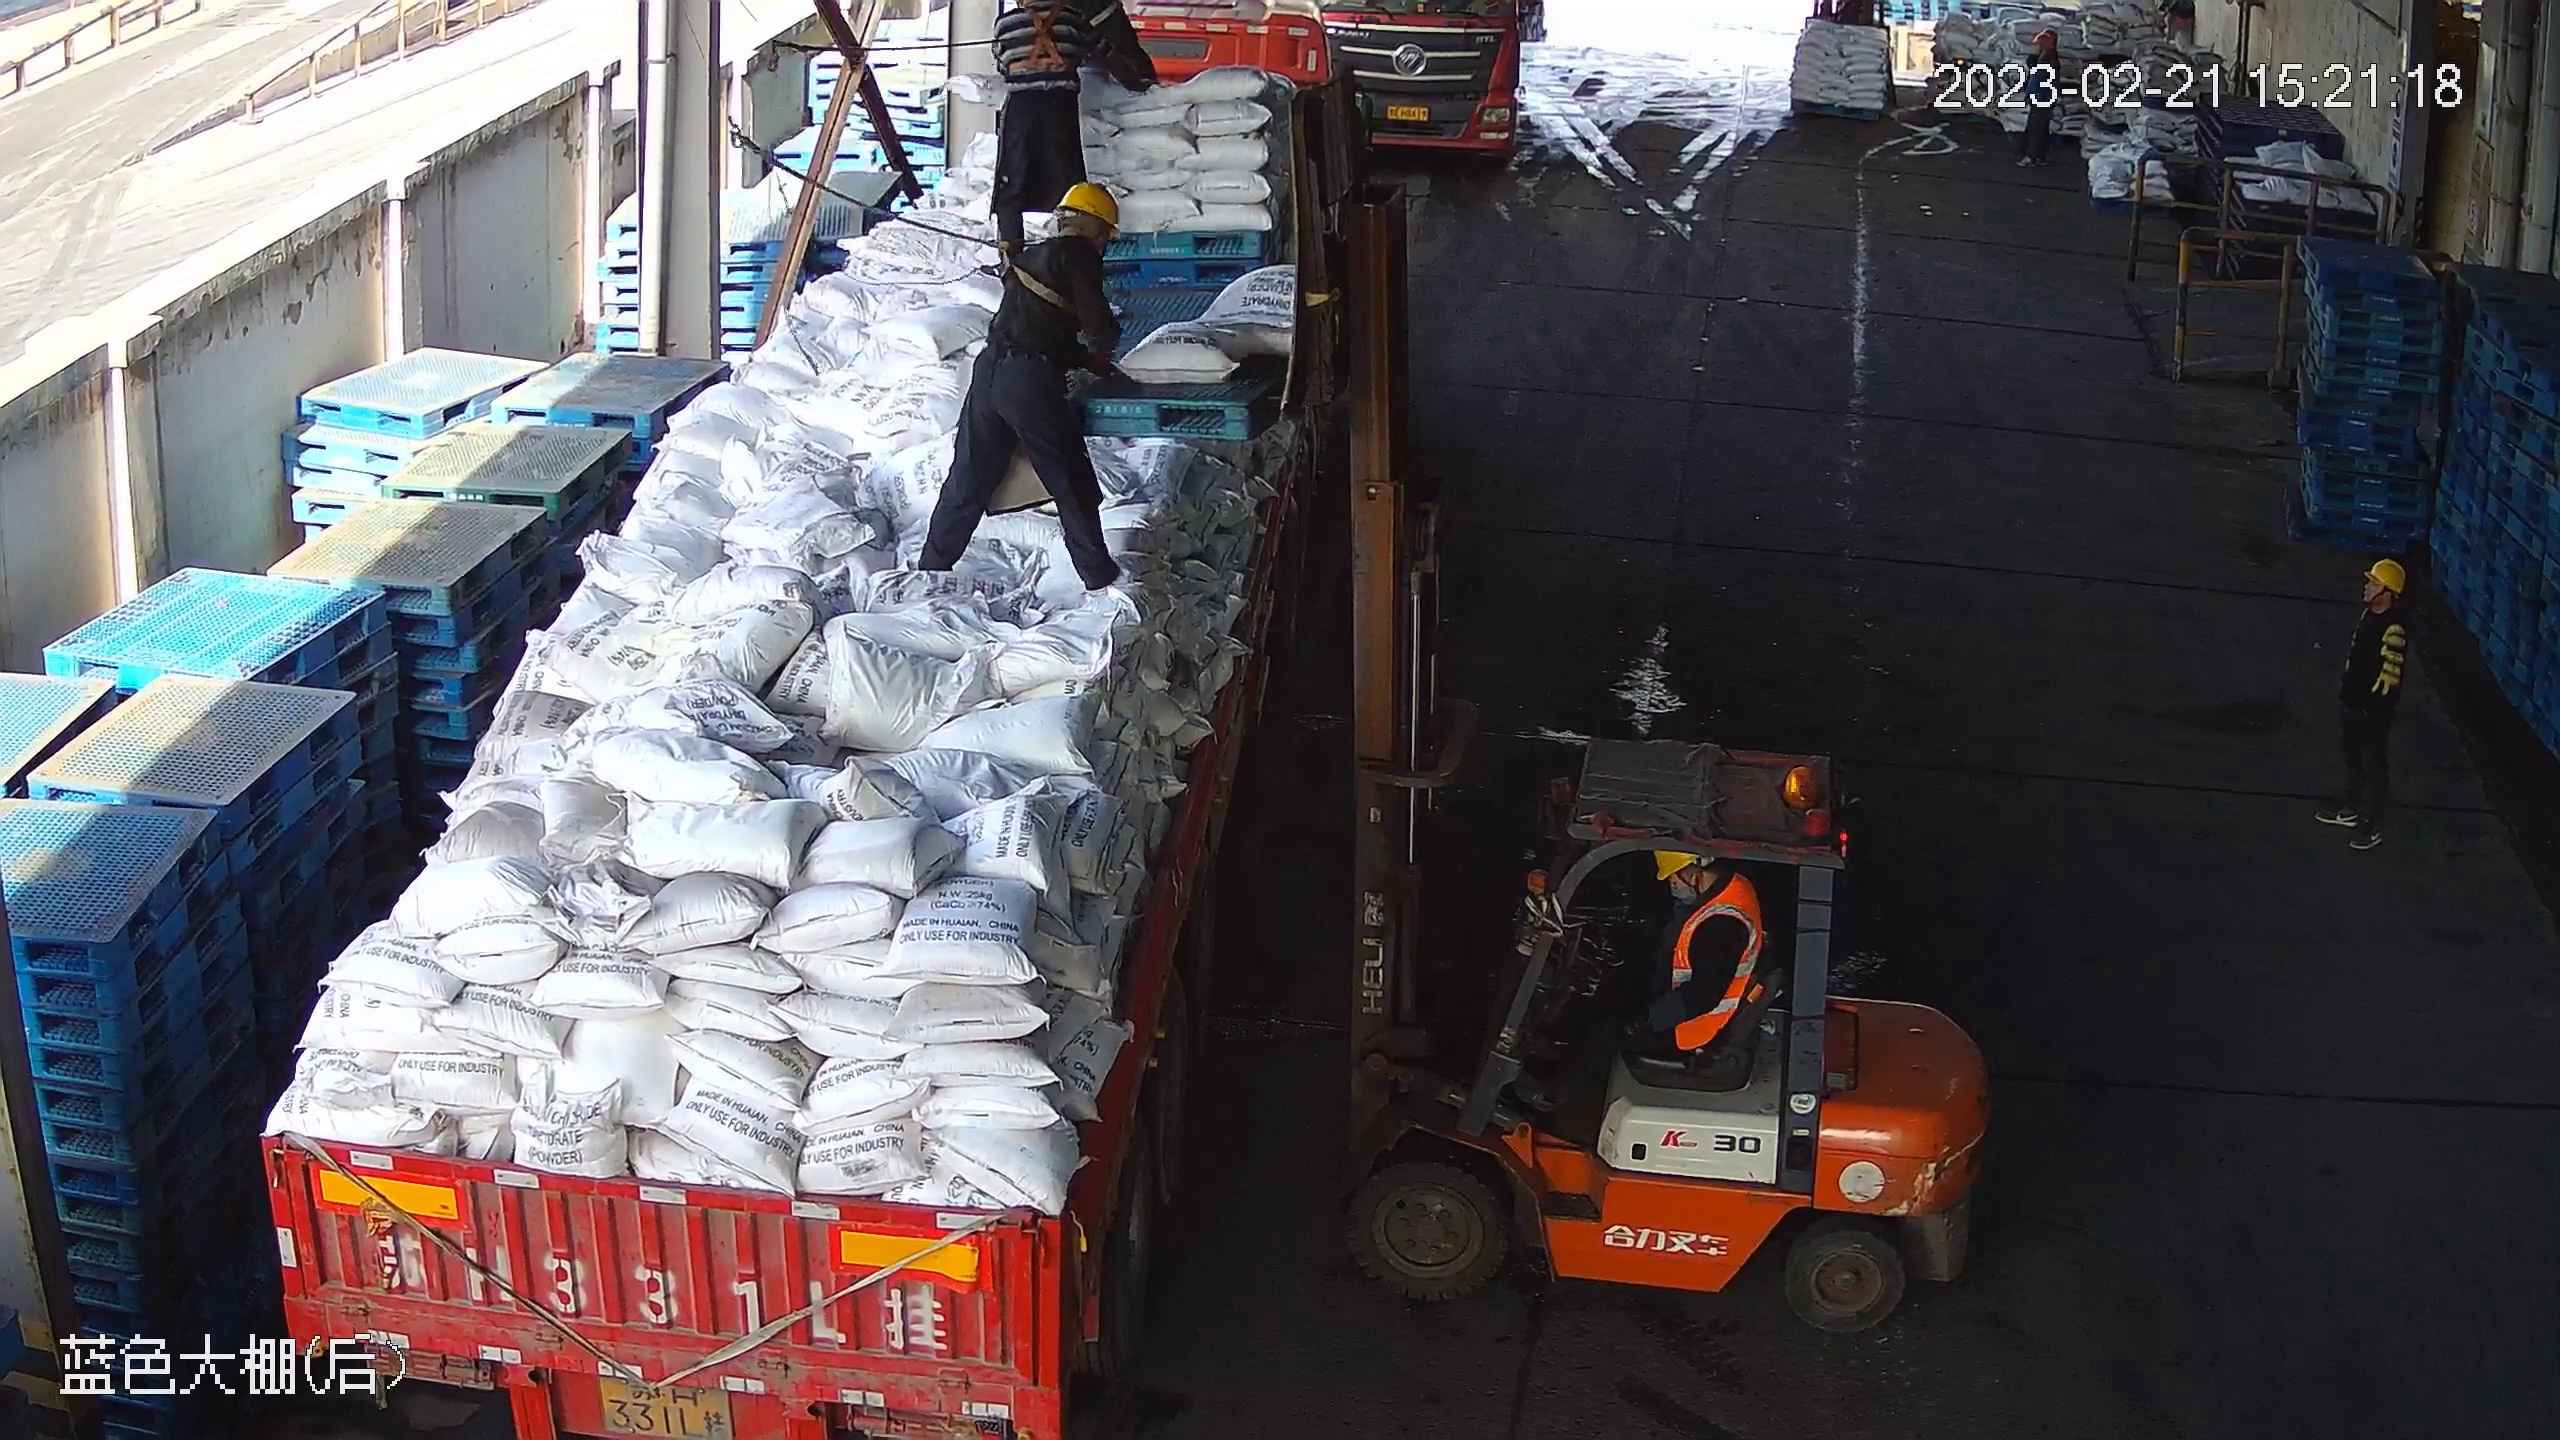belt: (983, 237, 1083, 316), (1009, 13, 1083, 76)
head: (999, 179, 1123, 293), (1653, 851, 1764, 951), (2351, 560, 2409, 650)
helmet: (1060, 176, 1128, 229), (2358, 557, 2404, 595)
people: (911, 179, 1125, 590), (1518, 841, 1769, 1122), (992, 2, 1107, 274), (2309, 557, 2413, 858)
truck: (248, 9, 1384, 1422), (1326, 1, 1542, 157)
